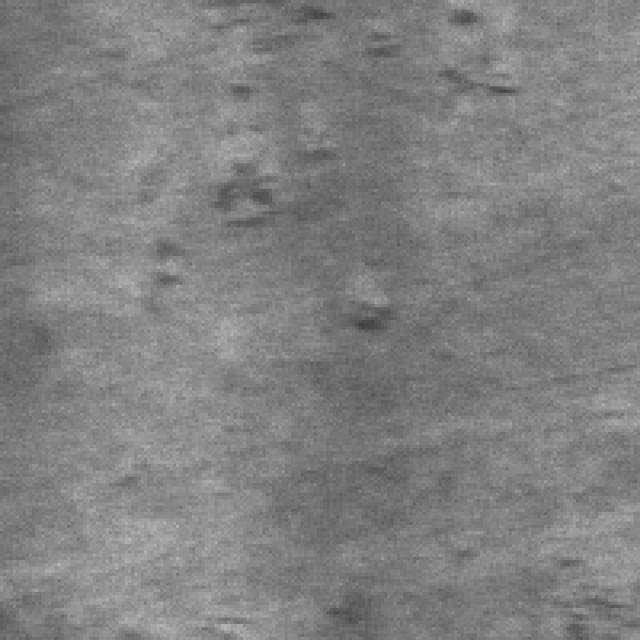rolled-in_scale: (99, 0, 515, 109), (147, 148, 394, 326), (528, 484, 630, 630)
